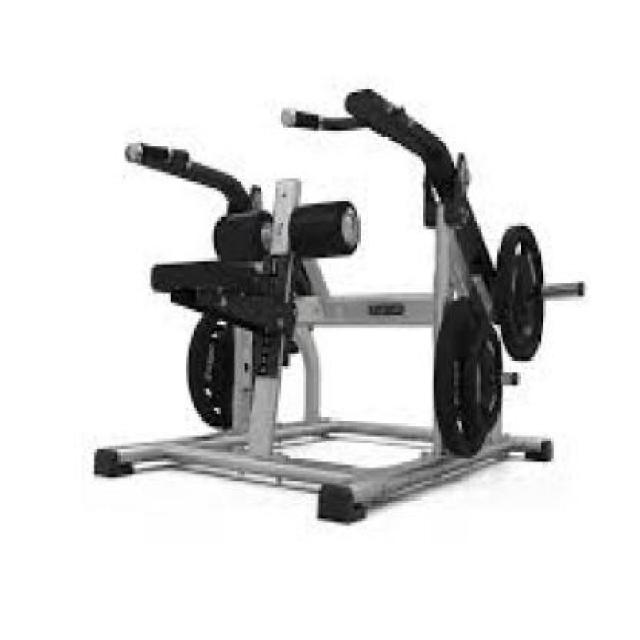seated dip machine: (92, 84, 585, 524)
